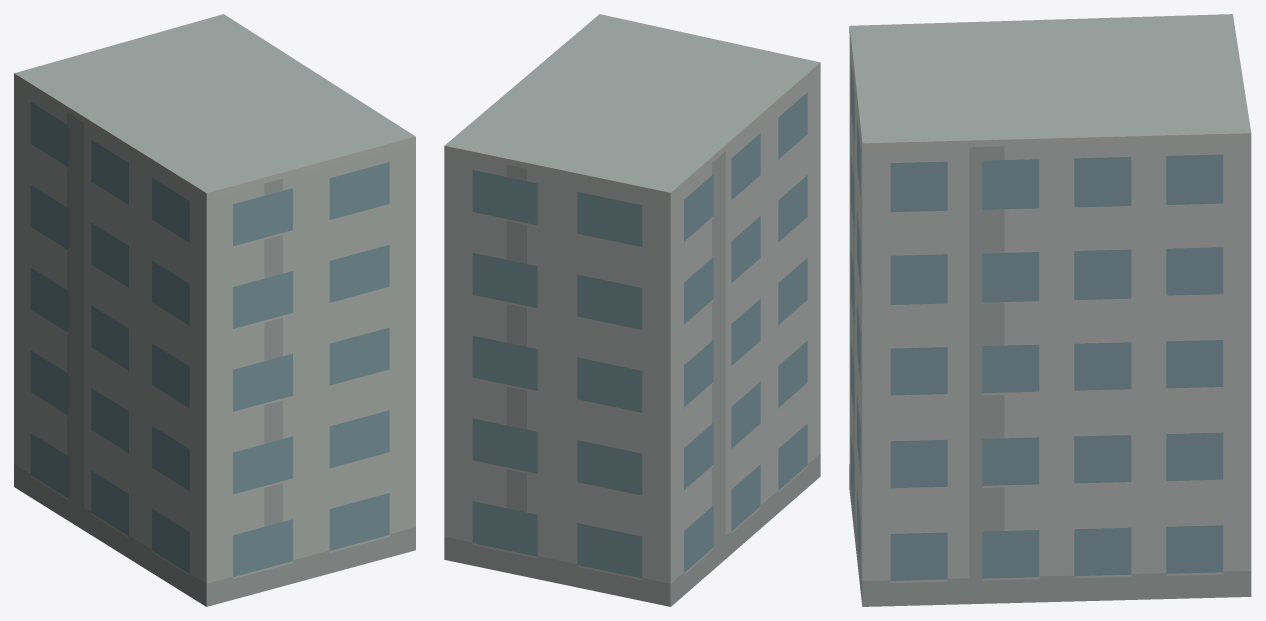
File: survey-upis-32883383.glb
3 renders of one model, left to right at view 1: azimuth 30°, elevation 25°; view 2: azimuth 150°, elevation 25°; view 3: azimuth 270°, elevation 25°, orthographic. The views are drawn at different scales.
Visible parts, largest first — view 1: survey-upis-32883383.tmp; view 2: survey-upis-32883383.tmp; view 3: survey-upis-32883383.tmp.
Boxes of the visible parts, <box> form: survey-upis-32883383.tmp: <box>14,14,415,606</box>; survey-upis-32883383.tmp: <box>444,14,820,606</box>; survey-upis-32883383.tmp: <box>849,14,1251,606</box>.
Bounding box in the file's own units: 10.12 × 16.9 × 13.29.
